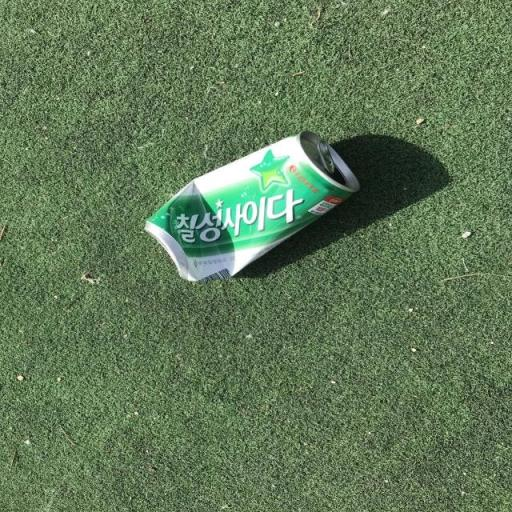metal: (120, 123, 378, 304)
